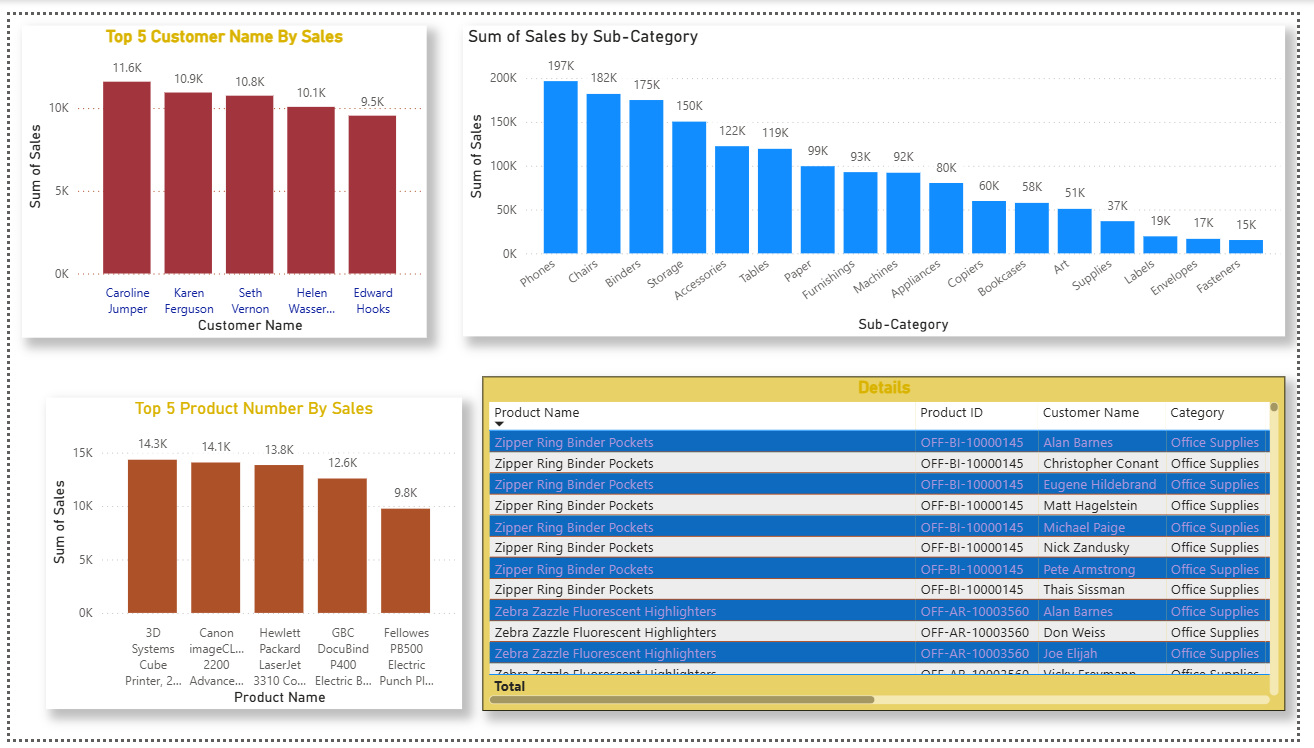

This screenshot's page, from the dashboard's own definition file:
{"tool":"powerbi","page":{"name":"Page 2","canvas":[1280,720],"ordinal":1},"visuals":[{"type":"clusteredColumnChart","title":"Top 5 Customer Name By Sales","fields":{"Y":["Sum(SuperStore_Sales_Dataset (1).Sales)"],"Category":["SuperStore_Sales_Dataset (1).Customer Name"]},"box":[11.9,10.4,403,310.4],"z":0},{"type":"lineClusteredColumnComboChart","title":"Top 5 Product Number By Sales","fields":{"Y":["Sum(SuperStore_Sales_Dataset (1).Sales)"],"Category":["SuperStore_Sales_Dataset (1).Product Name"]},"box":[36.2,381.2,413.8,310],"z":1000},{"type":"lineClusteredColumnComboChart","fields":{"Y":["Sum(SuperStore_Sales_Dataset (1).Sales)"],"Category":["SuperStore_Sales_Dataset (1).Sub-Category"]},"box":[450,11,818.1,309.4],"z":2000},{"type":"tableEx","title":"Details","fields":{"Values":["SuperStore_Sales_Dataset (1).Product Name","SuperStore_Sales_Dataset (1).Product ID","SuperStore_Sales_Dataset (1).Customer Name","SuperStore_Sales_Dataset (1).Category","SuperStore_Sales_Dataset (1).Sub-Category","SuperStore_Sales_Dataset (1).Payment Mode","SuperStore_Sales_Dataset (1).Region","SuperStore_Sales_Dataset (1).Segment","SuperStore_Sales_Dataset (1).Ship Mode","SuperStore_Sales_Dataset (1).State","SuperStore_Sales_Dataset (1).Country","SuperStore_Sales_Dataset (1).City"]},"box":[469.6,359.5,798.5,332.6],"z":3000}]}

Visuals, with their boxes in screenshot pixels (x1, y1, x2, y2), scaled from the page's 1280x720 canvas onto the 1314x748 screenshot:
"Top 5 Customer Name By Sales" clusteredColumnChart: [12, 11, 426, 333]
"Top 5 Product Number By Sales" lineClusteredColumnComboChart: [37, 396, 462, 718]
lineClusteredColumnComboChart - Sum(SuperStore_Sales_Dataset (1).Sales) x SuperStore_Sales_Dataset (1).Sub-Category: [462, 11, 1302, 333]
"Details" tableEx: [482, 373, 1302, 719]
